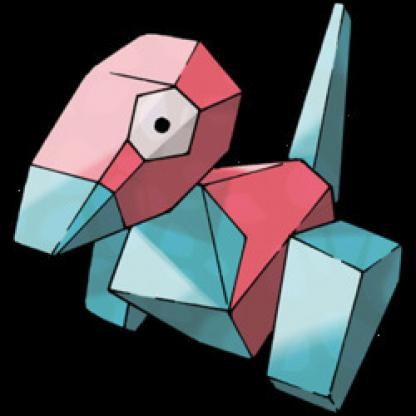Porygon: (3, 18, 415, 409)
